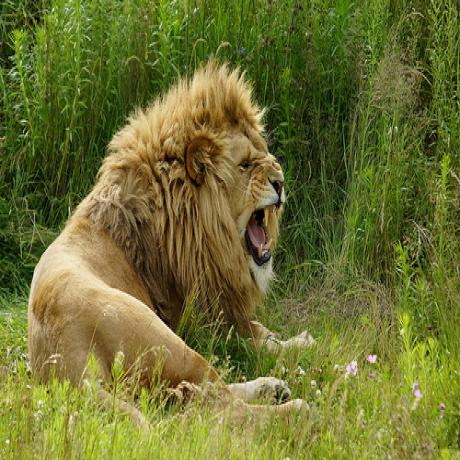Lion: (27, 56, 310, 422)
